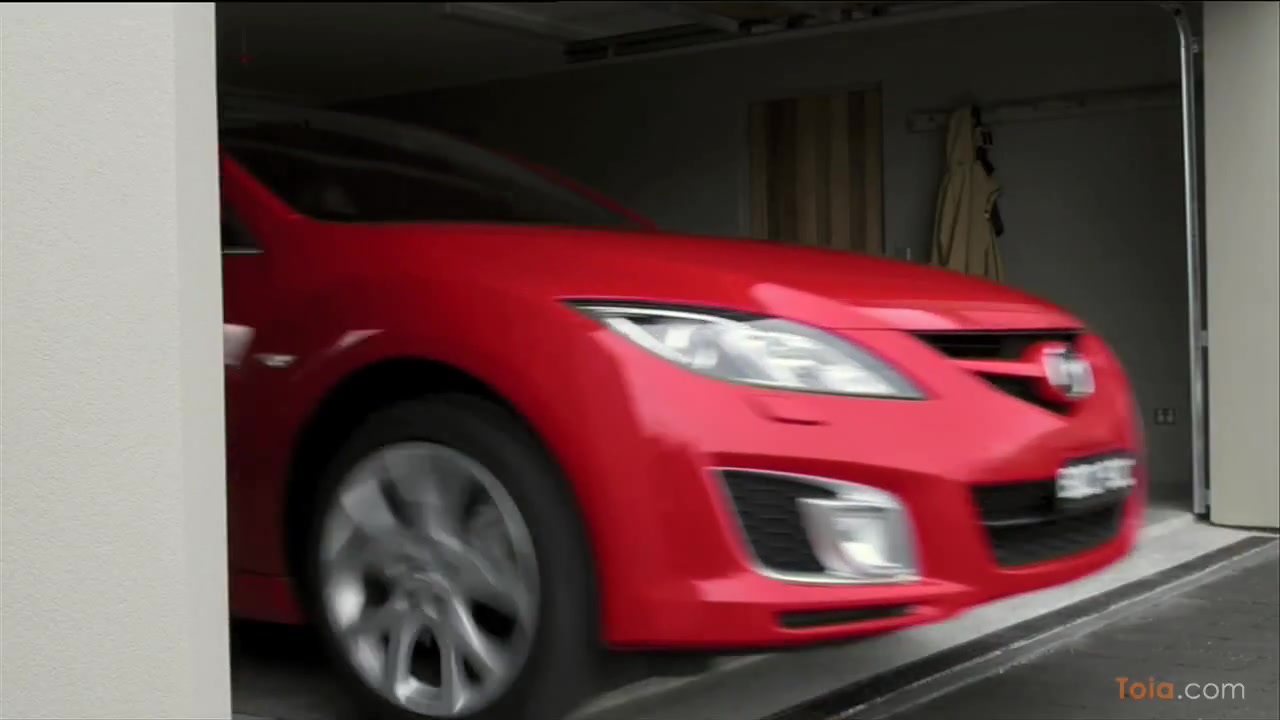car: (219, 83, 1149, 720)
